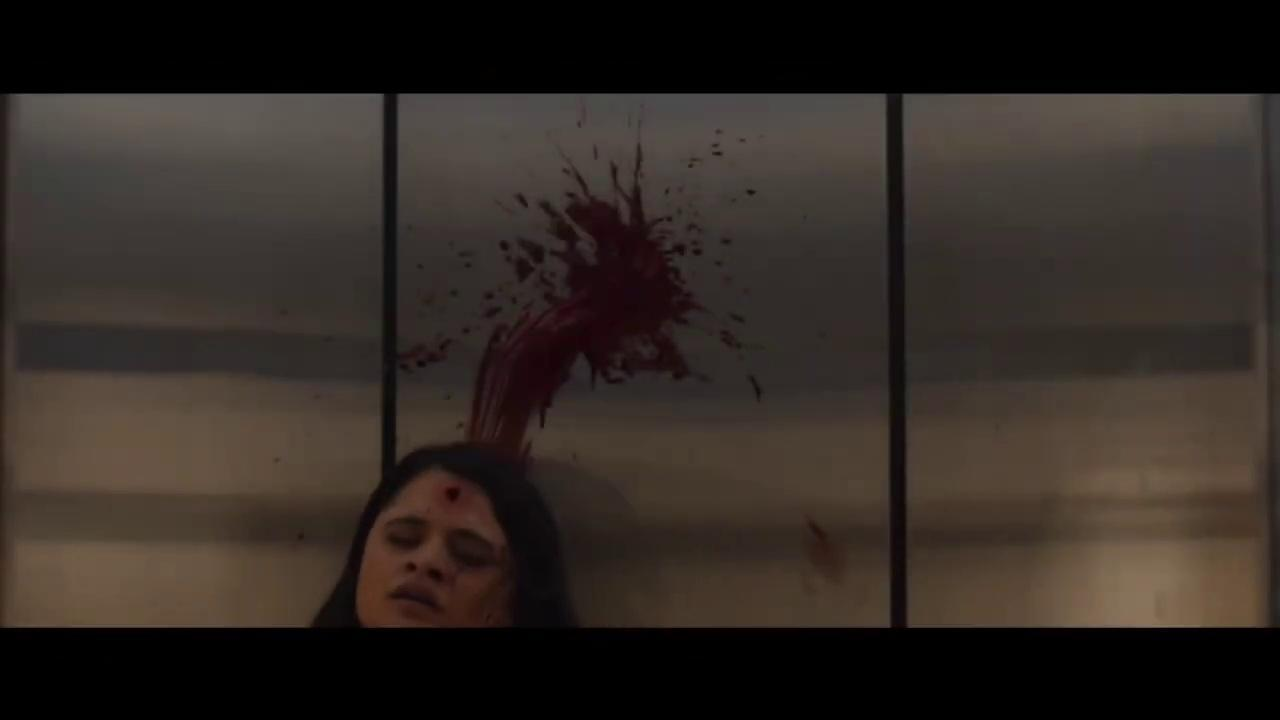Fire: (399, 136, 765, 516), (798, 503, 847, 603), (711, 126, 764, 176), (747, 375, 778, 419), (744, 188, 758, 205), (688, 157, 704, 168)
